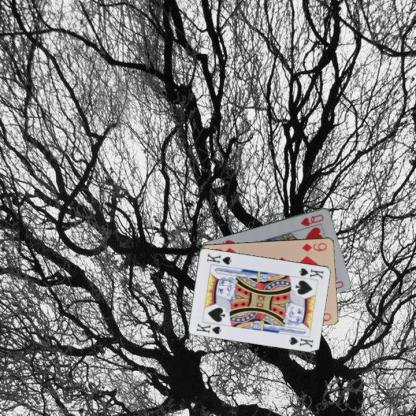9d: (299, 240, 328, 252)
Ks: (296, 265, 325, 280), (194, 321, 223, 335)
Qh: (298, 212, 325, 227)
